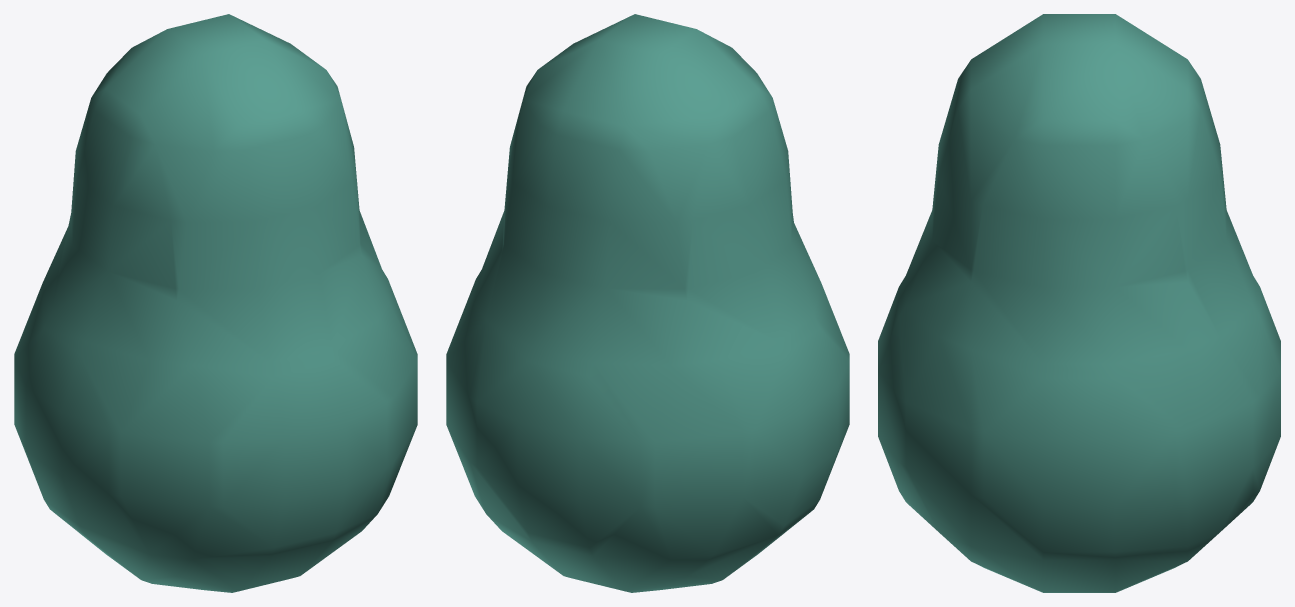
Rendered from npc.glb.
The picture shows the model from 3 angles, left to right: view 1: azimuth 30°, elevation 25°; view 2: azimuth 150°, elevation 25°; view 3: azimuth 270°, elevation 25°; orthographic projection.
Parts seen in each view (by area): view 1: Body; view 2: Body; view 3: Body.
Part boxes in pixels (x1=…): Body: x1=14, y1=14, x2=417, y2=592; Body: x1=446, y1=14, x2=849, y2=592; Body: x1=878, y1=14, x2=1280, y2=592.
Bounding box in the file's own units: 2.82 × 4.19 × 2.82.
Materials: 1 (1 with a texture image).
